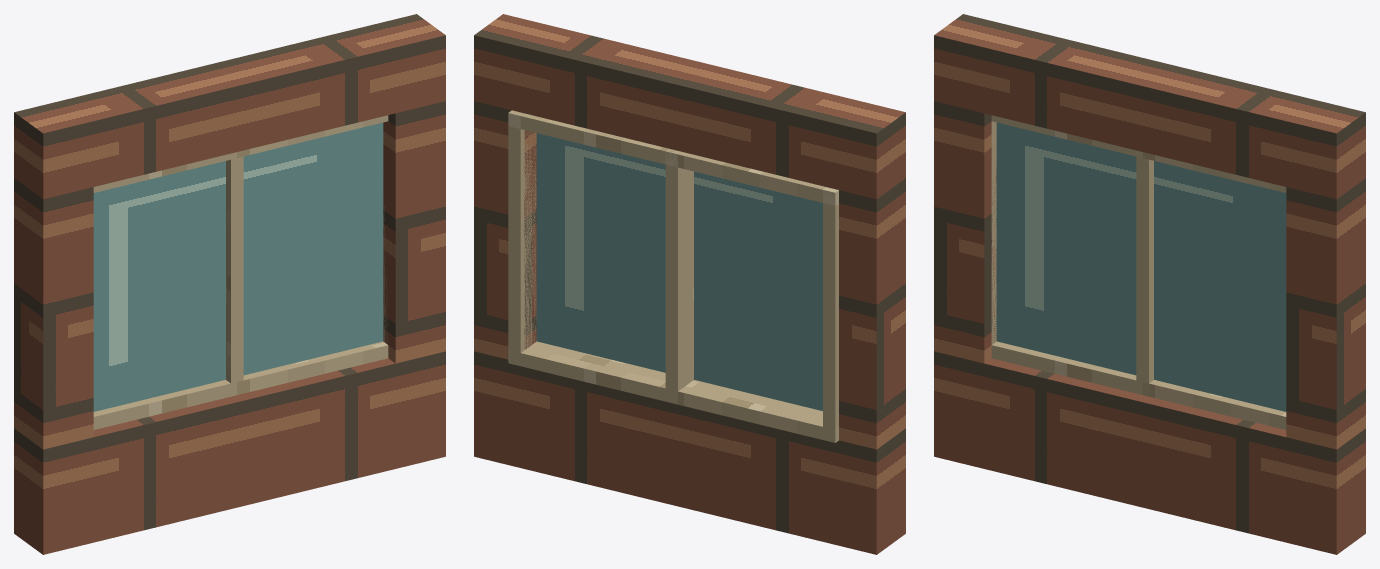
Rendered from mall_upper_window.gltf.
3 views of the same model, side by side, from view 1: azimuth 30°, elevation 25°; view 2: azimuth 150°, elevation 25°; view 3: azimuth 330°, elevation 25° (orthographic).
Visible parts, largest first — view 1: glass, lower_wall, upper_wall, side_wall (×2), frame (×3); view 2: glass, lower_wall, upper_wall, frame (×5), side_wall (×2); view 3: glass, lower_wall, upper_wall, side_wall (×2), frame (×4).
Boxes of the visible parts, x1,y1,x2,y2 form: glass: [93, 122, 383, 411]; lower_wall: [14, 351, 445, 554]; upper_wall: [14, 14, 445, 199]; side_wall (×2): [14, 101, 445, 449]; frame (×3): [93, 115, 388, 429]; glass: [536, 133, 822, 410]; lower_wall: [474, 351, 905, 554]; upper_wall: [474, 14, 905, 199]; frame (×5): [508, 110, 838, 442]; side_wall (×2): [474, 101, 905, 449]; glass: [996, 122, 1286, 411]; lower_wall: [934, 351, 1365, 554]; upper_wall: [934, 14, 1365, 199]; side_wall (×2): [934, 101, 1365, 449]; frame (×4): [991, 115, 1286, 429].
Bounding box in the file's own units: 2 × 2 × 0.2812.
Materials: 3 (3 with a texture image).
